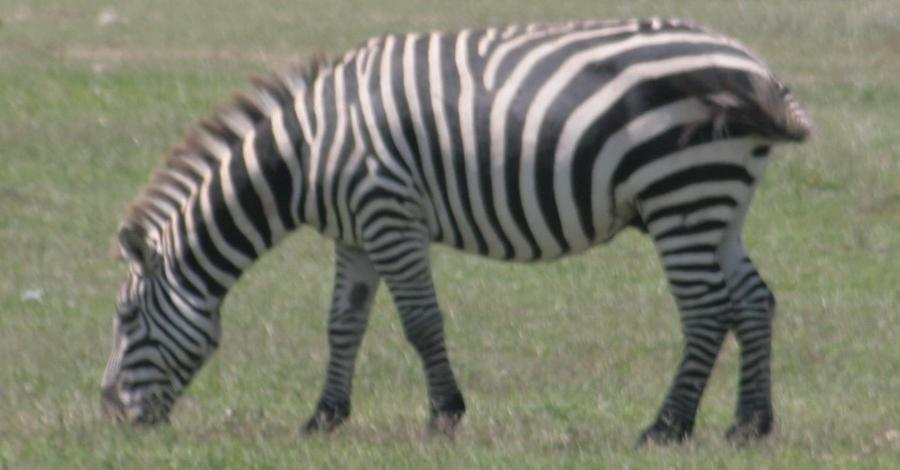zebra_plains: (271, 12, 793, 320)
